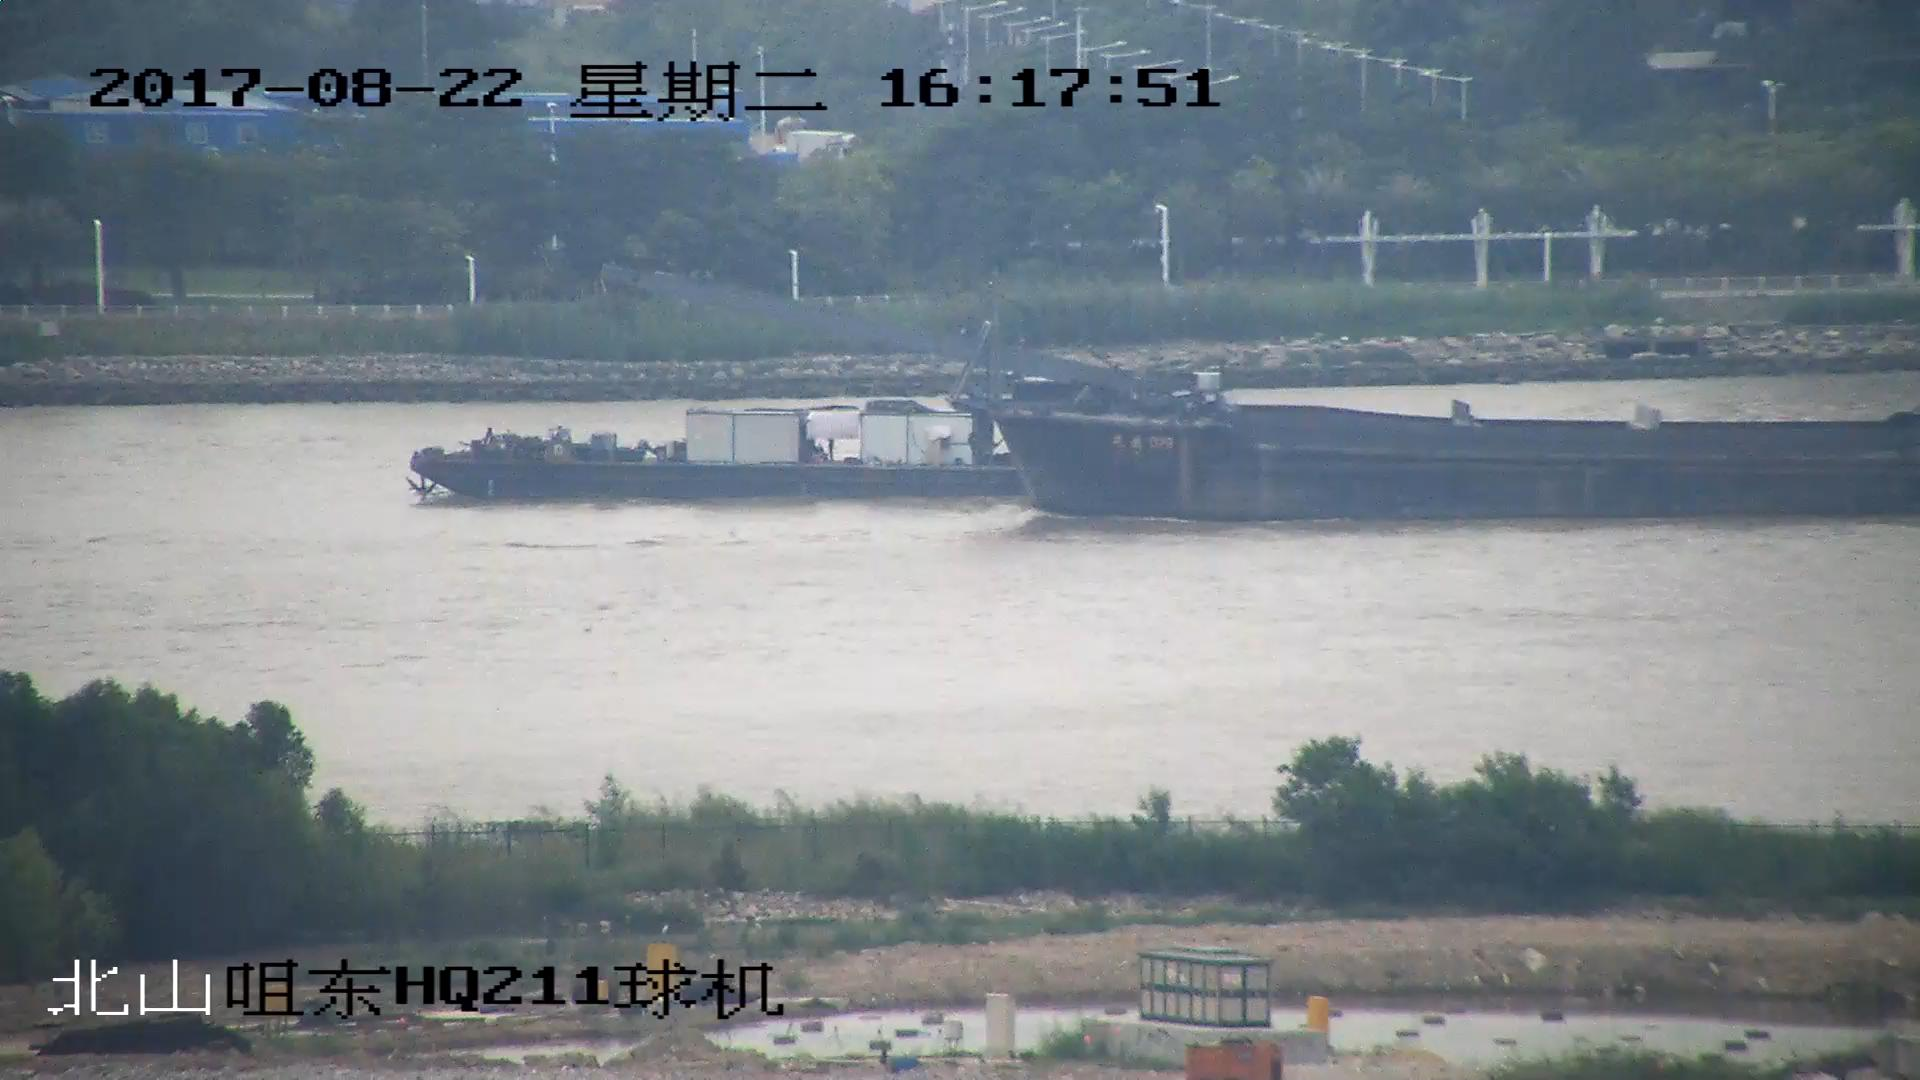bulk cargo carrier: (601, 265, 1920, 520), (408, 399, 1051, 510)
